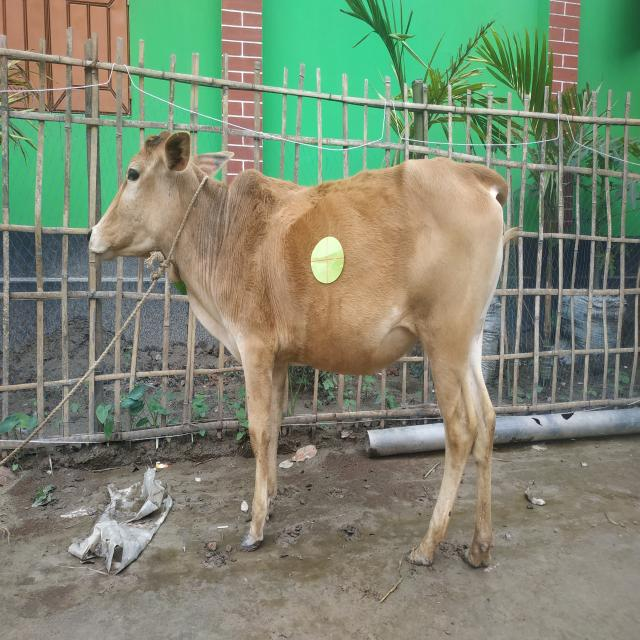badan_sapi: (238, 174, 503, 370)
sapi: (75, 116, 531, 582)
